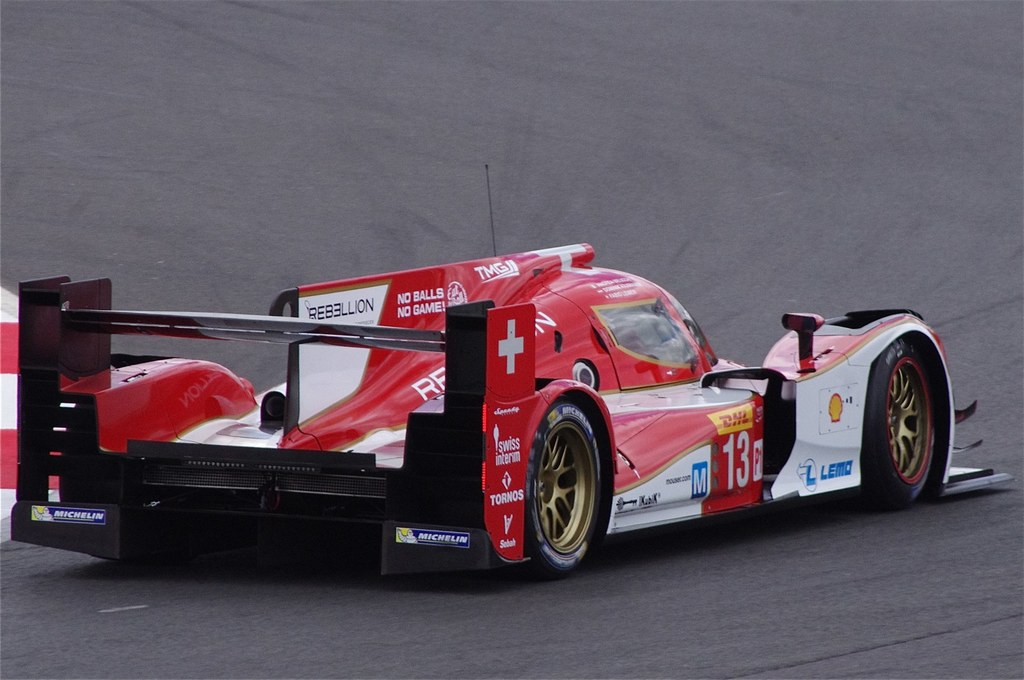Car: (10, 161, 1011, 586)
